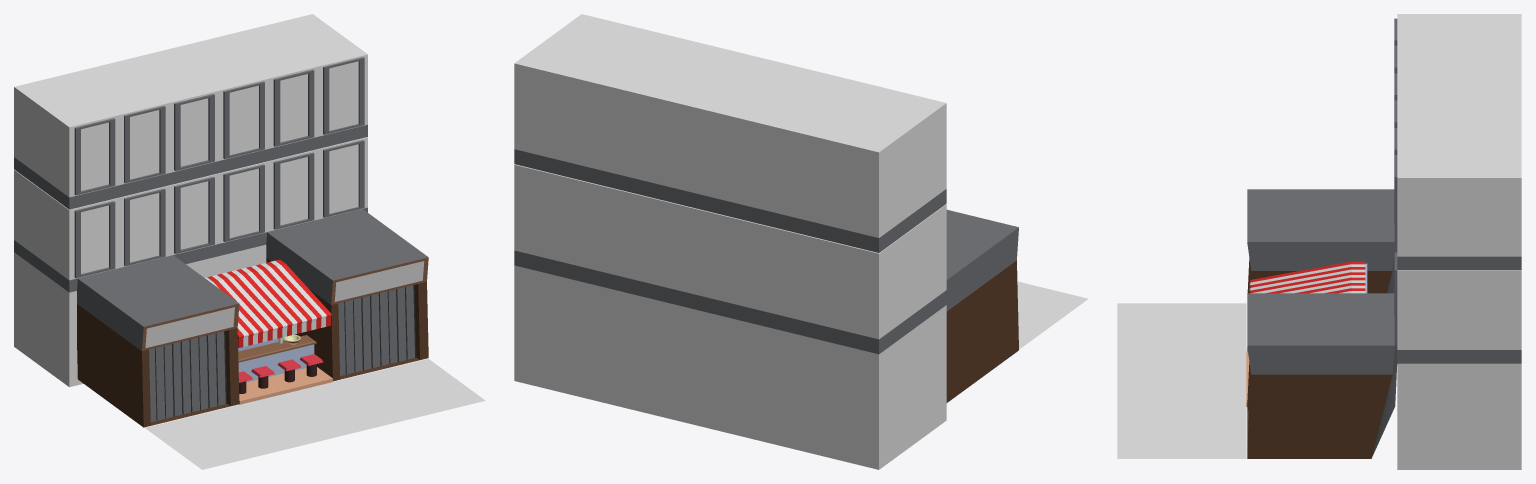
Rendered from Kitchen2.glb.
3 renders of one model, left to right at view 1: azimuth 30°, elevation 25°; view 2: azimuth 150°, elevation 25°; view 3: azimuth 270°, elevation 25°, orthographic. The views are drawn at different scales.
Parts seen in each view (by area): view 1: Cube.018, Cube.020, Cube.021, Plane.005, Plane.002, Plane, Plane.003, Plane.004; view 2: Cube.018, Cube.020, Plane.005; view 3: Cube.018, Cube.021, Plane.005, Cube.020, Plane.002.
Part boxes in pixels (x1,y1,x2,y2): Cube.018: [14, 14, 367, 387]; Cube.020: [77, 255, 239, 427]; Cube.021: [266, 209, 428, 381]; Plane.005: [145, 358, 485, 469]; Plane.002: [205, 259, 331, 347]; Plane: [239, 367, 332, 404]; Plane.003: [238, 344, 314, 382]; Plane.004: [238, 335, 316, 362]; Cube.018: [514, 14, 946, 469]; Cube.020: [946, 209, 1018, 402]; Plane.005: [1017, 281, 1088, 349]; Cube.018: [1394, 14, 1521, 469]; Cube.021: [1247, 293, 1397, 458]; Plane.005: [1117, 303, 1246, 458]; Cube.020: [1247, 189, 1394, 351]; Plane.002: [1249, 261, 1365, 293].
Size of the model in its own units: 67.85 by 56.42 by 70.76.
